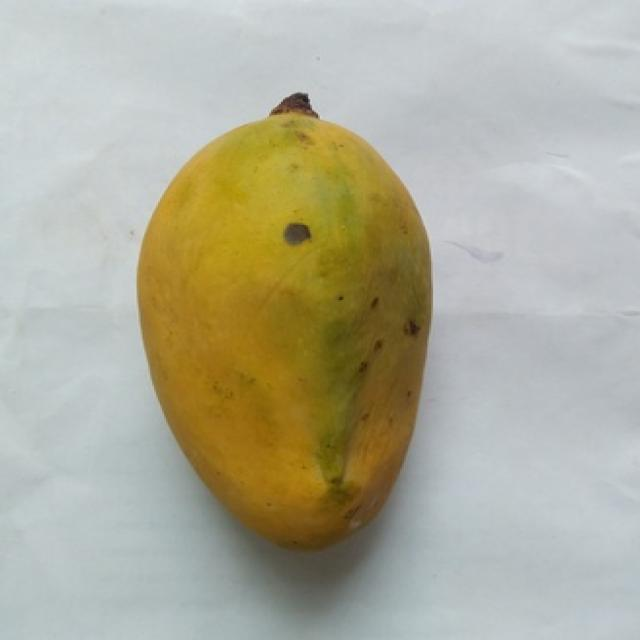Mango: (137, 102, 431, 544)
